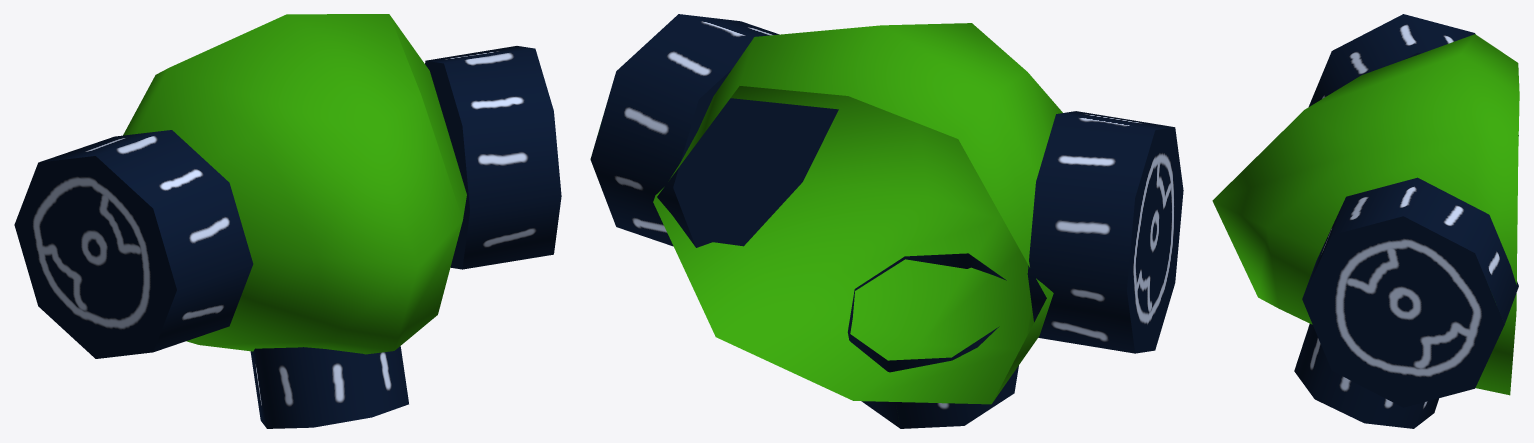
The model's file is mask.fbx.
3 renders of one model, left to right at view 1: azimuth 30°, elevation 25°; view 2: azimuth 150°, elevation 25°; view 3: azimuth 270°, elevation 25°, orthographic. The views are drawn at different scales.
Parts seen in each view (by area): view 1: Cube.004; view 2: Cube.004; view 3: Cube.004.
Boxes of the visible parts, box(x1,y1,x2,y2) form: Cube.004: box(14, 14, 561, 428); Cube.004: box(590, 14, 1183, 428); Cube.004: box(1212, 14, 1519, 428).
Bounding box in the file's own units: 31.45 × 23.19 × 17.94.
Materials: 1 (1 with a texture image).
